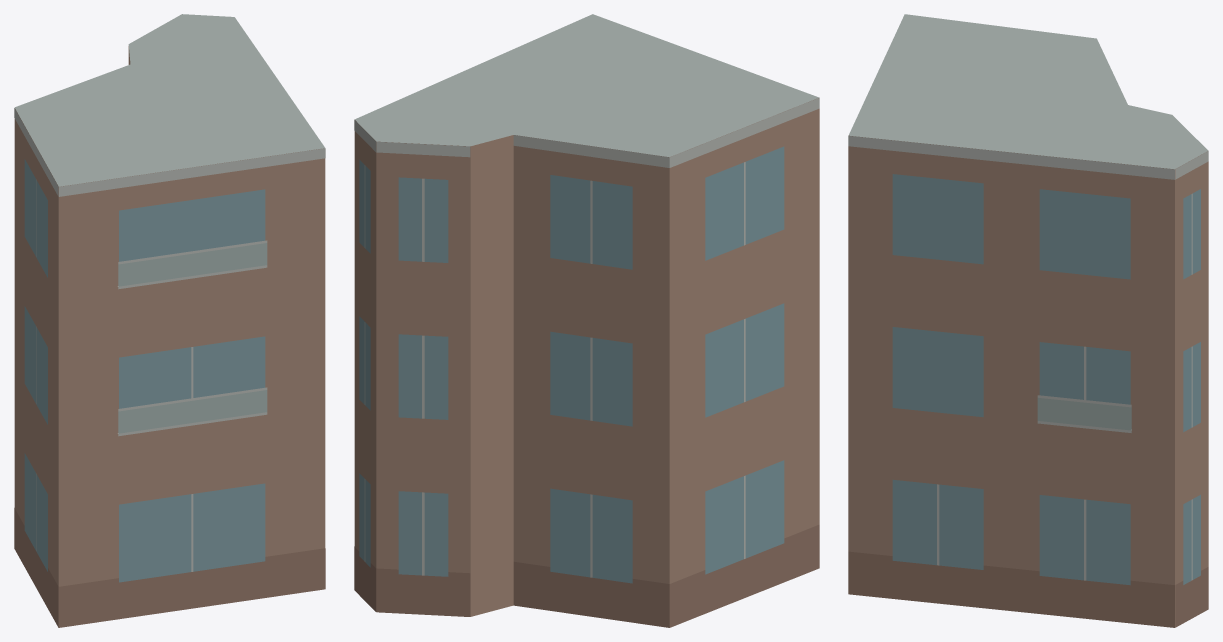
The model's file is survey-upis-32726161.glb.
The picture shows the model from 3 angles, left to right: view 1: azimuth 30°, elevation 25°; view 2: azimuth 150°, elevation 25°; view 3: azimuth 270°, elevation 25°; orthographic projection. The views are drawn at different scales.
Parts seen in each view (by area): view 1: survey-upis-32726161.tmp; view 2: survey-upis-32726161.tmp; view 3: survey-upis-32726161.tmp.
Boxes of the visible parts, x1,y1,x2,y2 form: survey-upis-32726161.tmp: [14, 14, 325, 627]; survey-upis-32726161.tmp: [354, 14, 819, 627]; survey-upis-32726161.tmp: [848, 14, 1208, 627].
Bounding box in the file's own units: 7.63 × 10.5 × 7.48.
